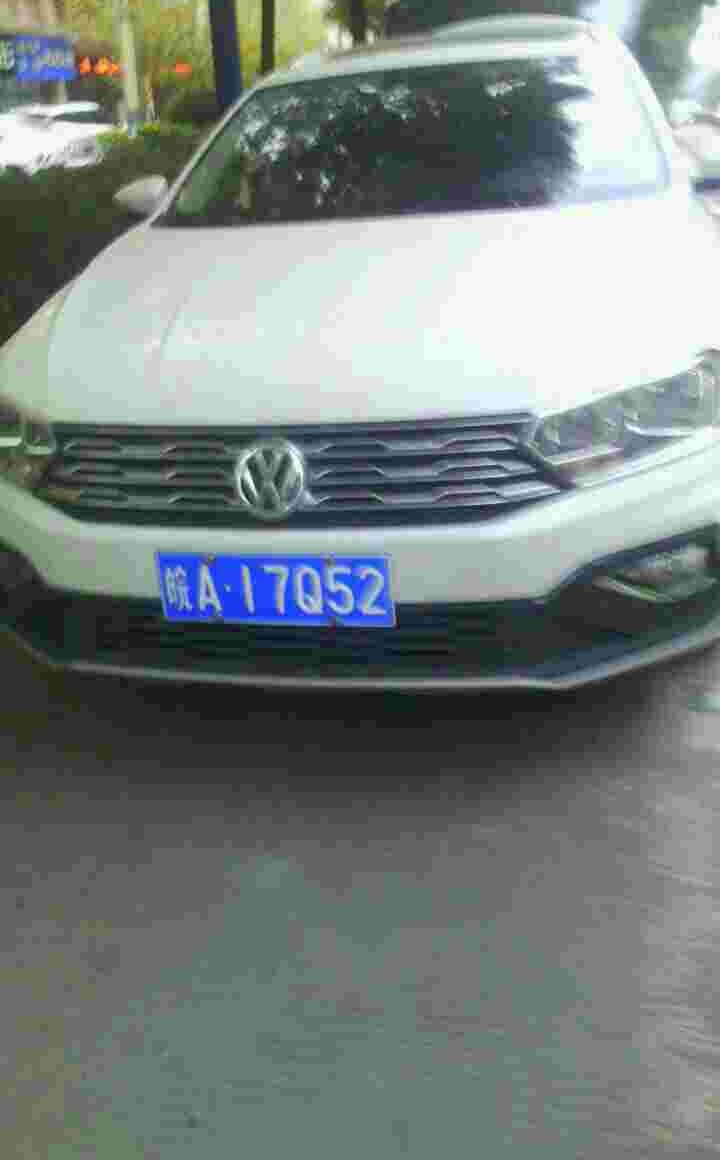plate: (153, 549, 402, 629)
